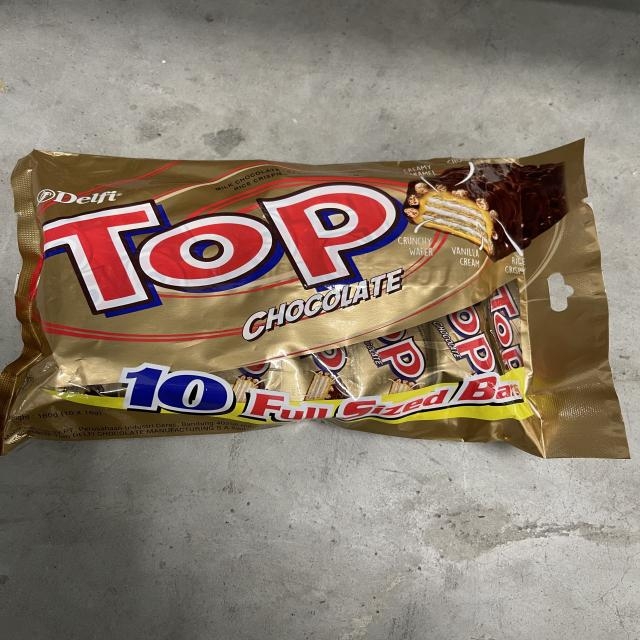object_name: (17, 161, 599, 444)
